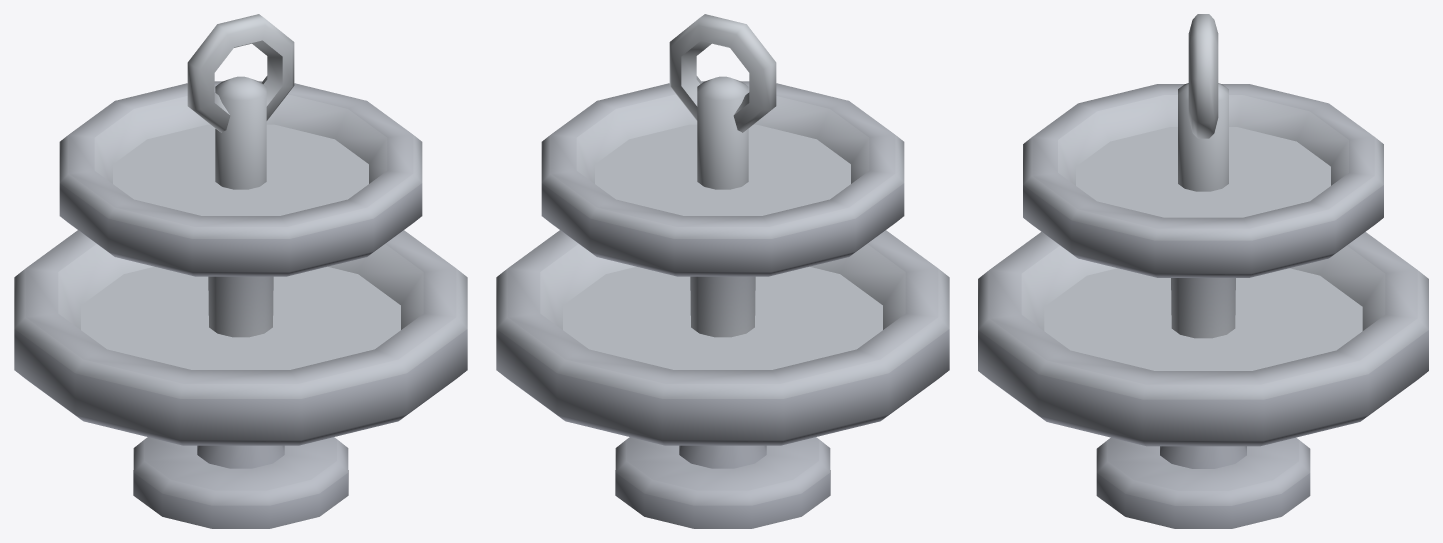
The model's file is pastry-stand-b.glb.
3 renders of one model, left to right at view 1: azimuth 30°, elevation 25°; view 2: azimuth 150°, elevation 25°; view 3: azimuth 270°, elevation 25°, orthographic.
Parts seen in each view (by area): view 1: pastry_stand_B; view 2: pastry_stand_B; view 3: pastry_stand_B.
Part boxes in pixels (x1,y1,x2,y2): pastry_stand_B: (14, 14, 467, 528); pastry_stand_B: (496, 14, 949, 528); pastry_stand_B: (978, 14, 1428, 528).
Size of the model in its own units: 0.8 by 0.9 by 0.8.
1 material, 1 textured.
